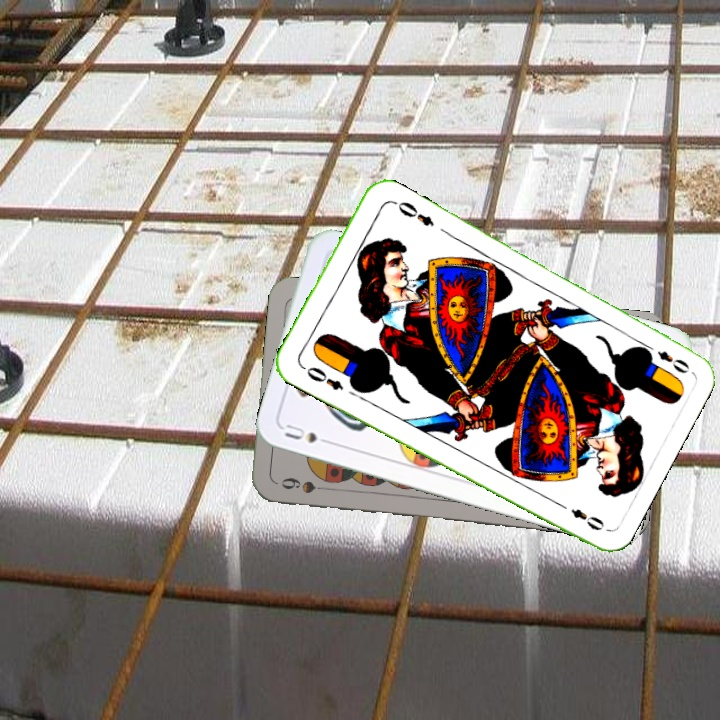EO: (297, 361, 347, 394), (653, 346, 692, 376)
S9: (278, 473, 334, 496)
SU: (281, 420, 337, 448)
